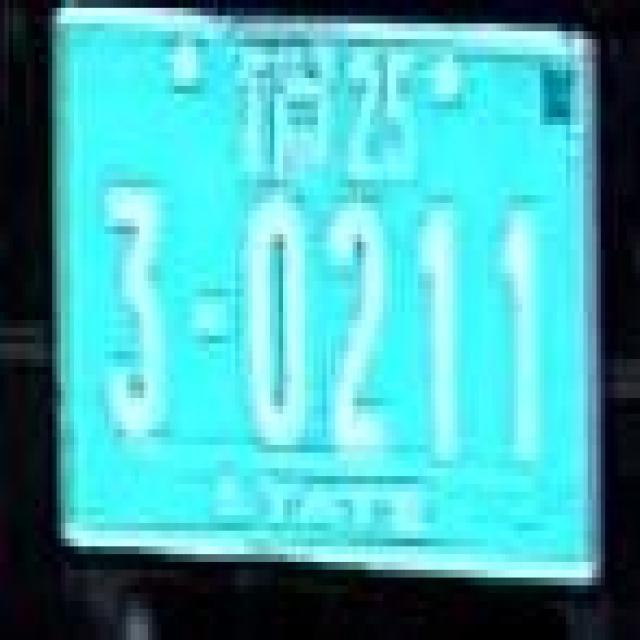State: (239, 47, 336, 186)
